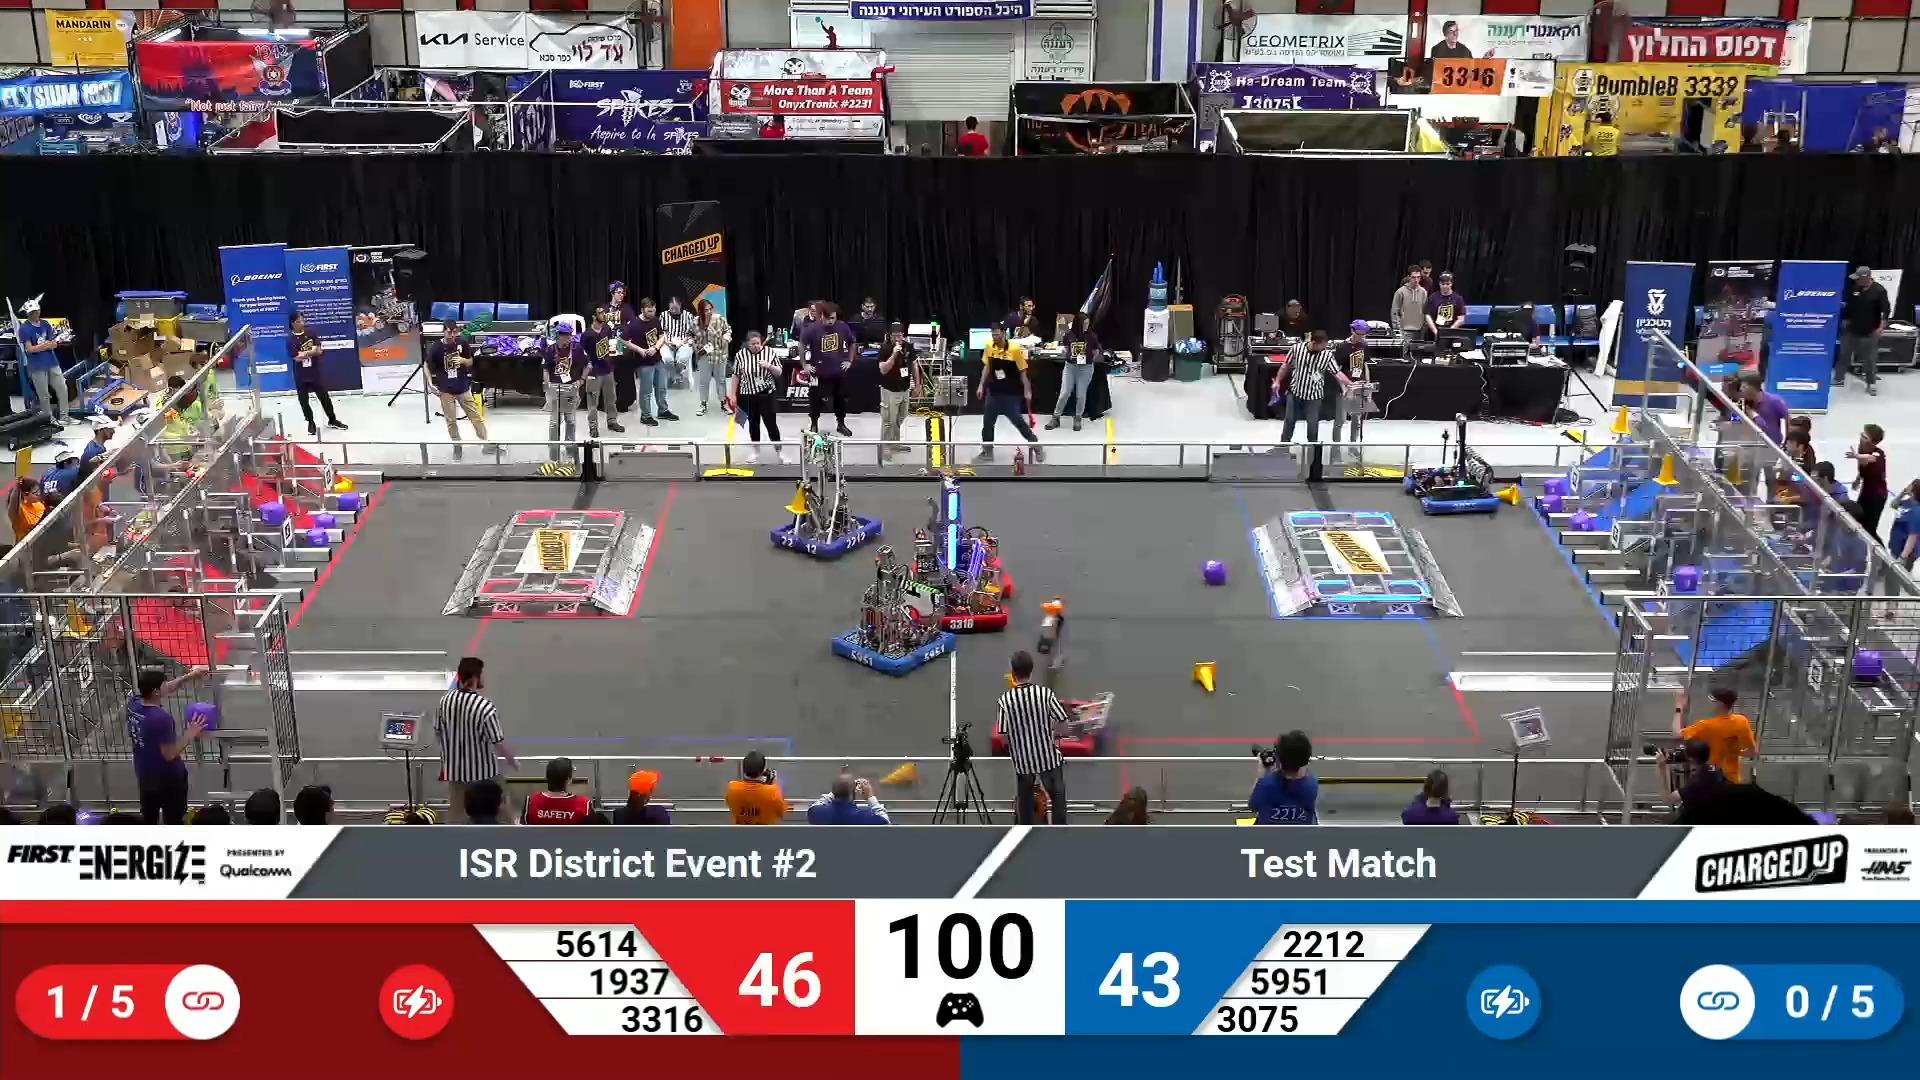robot: (992, 597, 1109, 756), (829, 543, 953, 676), (767, 426, 882, 562), (914, 473, 1014, 603), (909, 527, 1011, 633), (1404, 417, 1501, 514)
